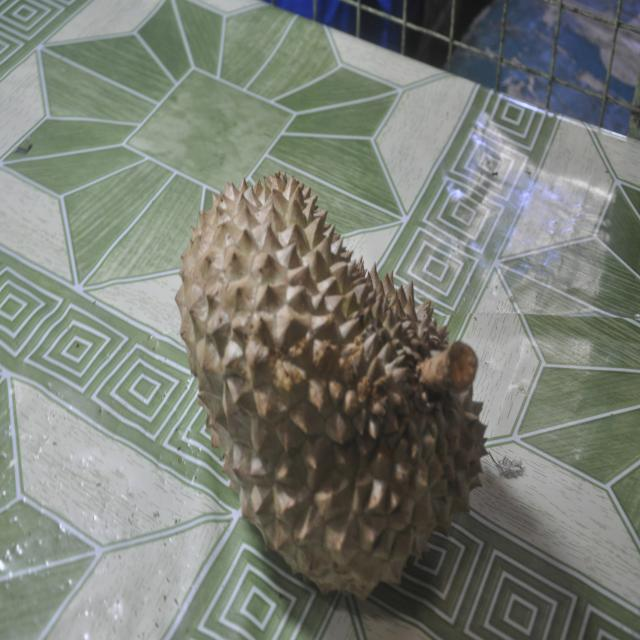mature: (176, 174, 486, 597)
